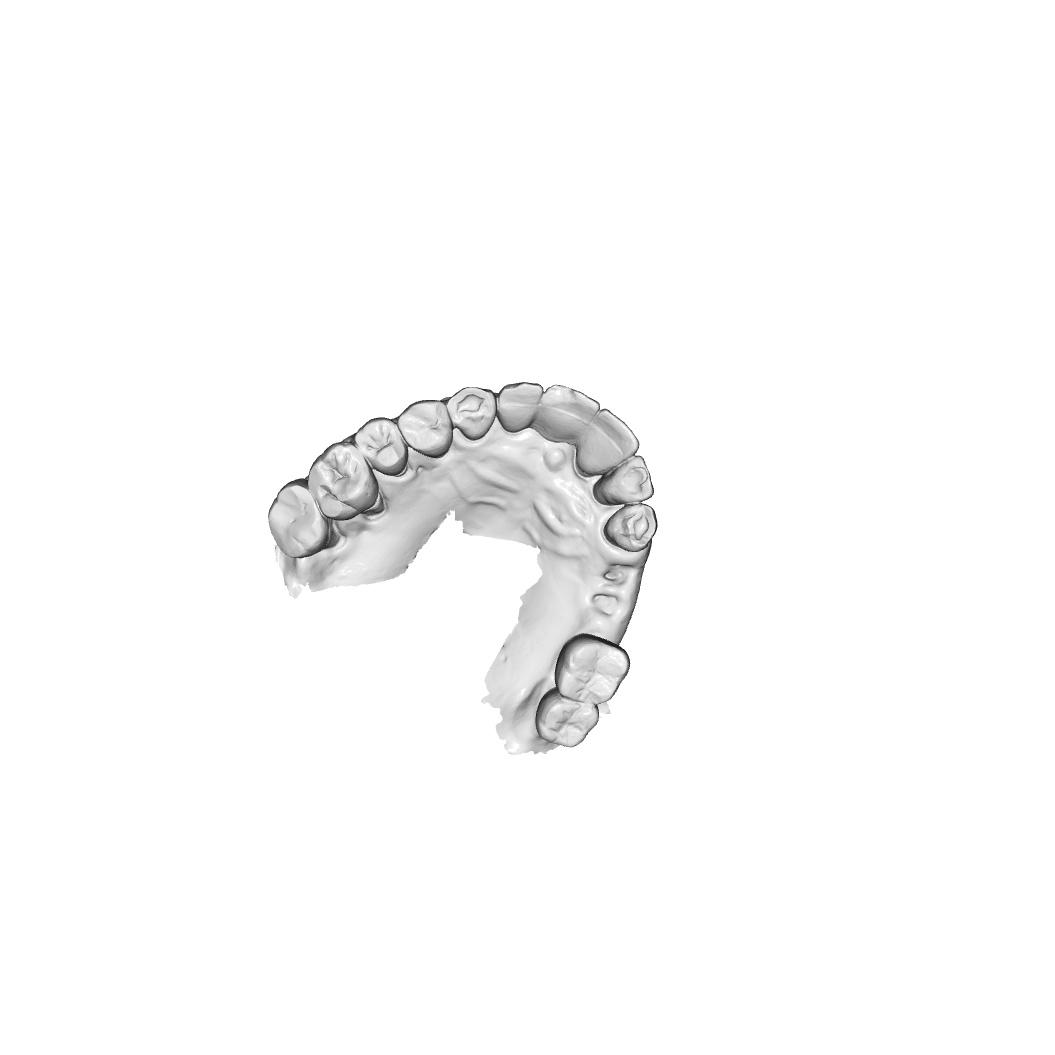canine: (447, 385, 498, 442), (601, 503, 659, 553)
incisor: (575, 408, 640, 477), (534, 384, 601, 444), (591, 455, 656, 506), (496, 381, 544, 434)
molar: (306, 441, 381, 523), (553, 633, 632, 705), (266, 478, 332, 560), (534, 686, 600, 748)
premolar: (396, 399, 454, 459), (353, 416, 410, 477)
